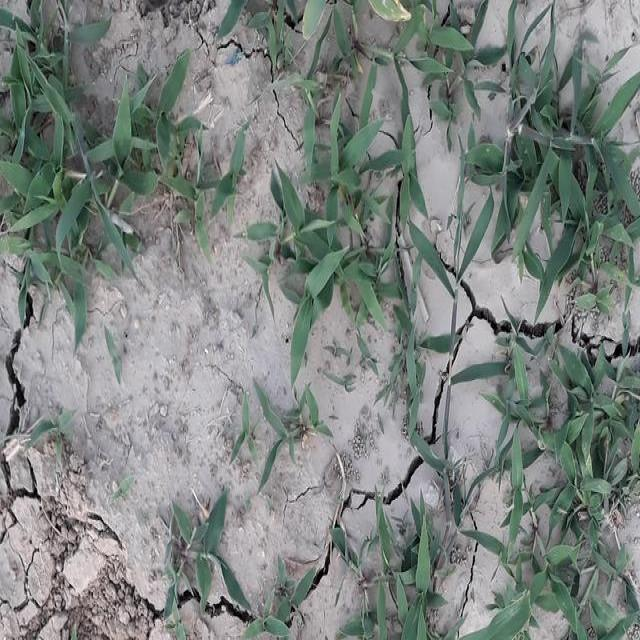weed: (0, 0, 161, 323), (482, 325, 632, 629), (252, 83, 414, 326), (487, 35, 640, 286)
